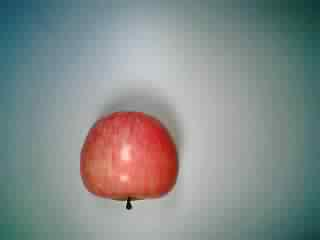apple: (77, 104, 183, 208)
